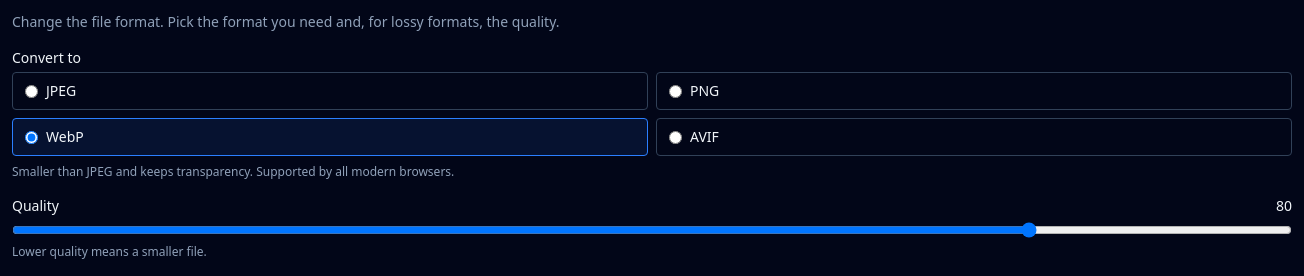
Test: convert panel › swaps the slider for a note on PNG
Click the radio button labelled "PNG". click: (676, 91)
box: [669,84,682,98]
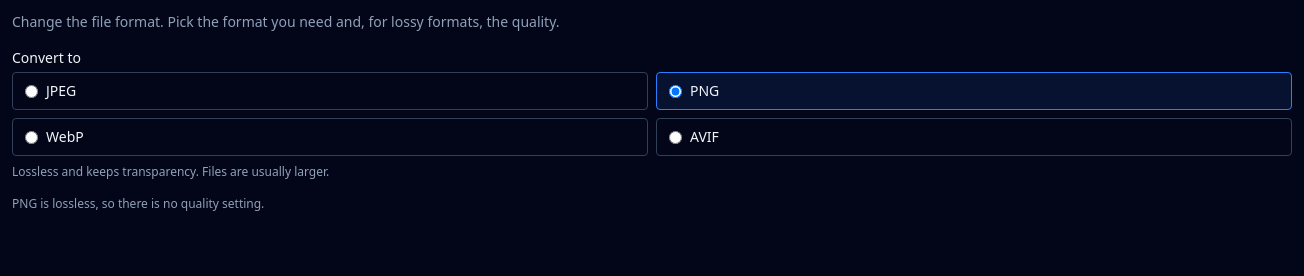
Expected: the text "PNG is lossless, so there is no quality setting." is shown, [12,195,264,212]
